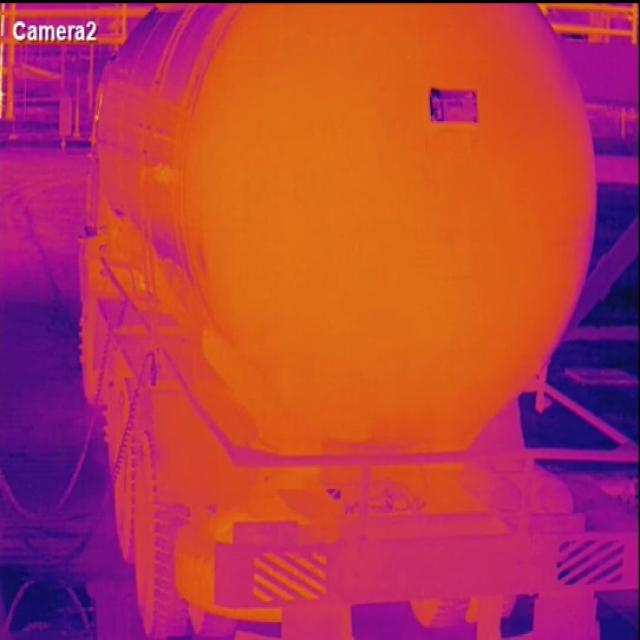tank: (183, 2, 598, 443)
